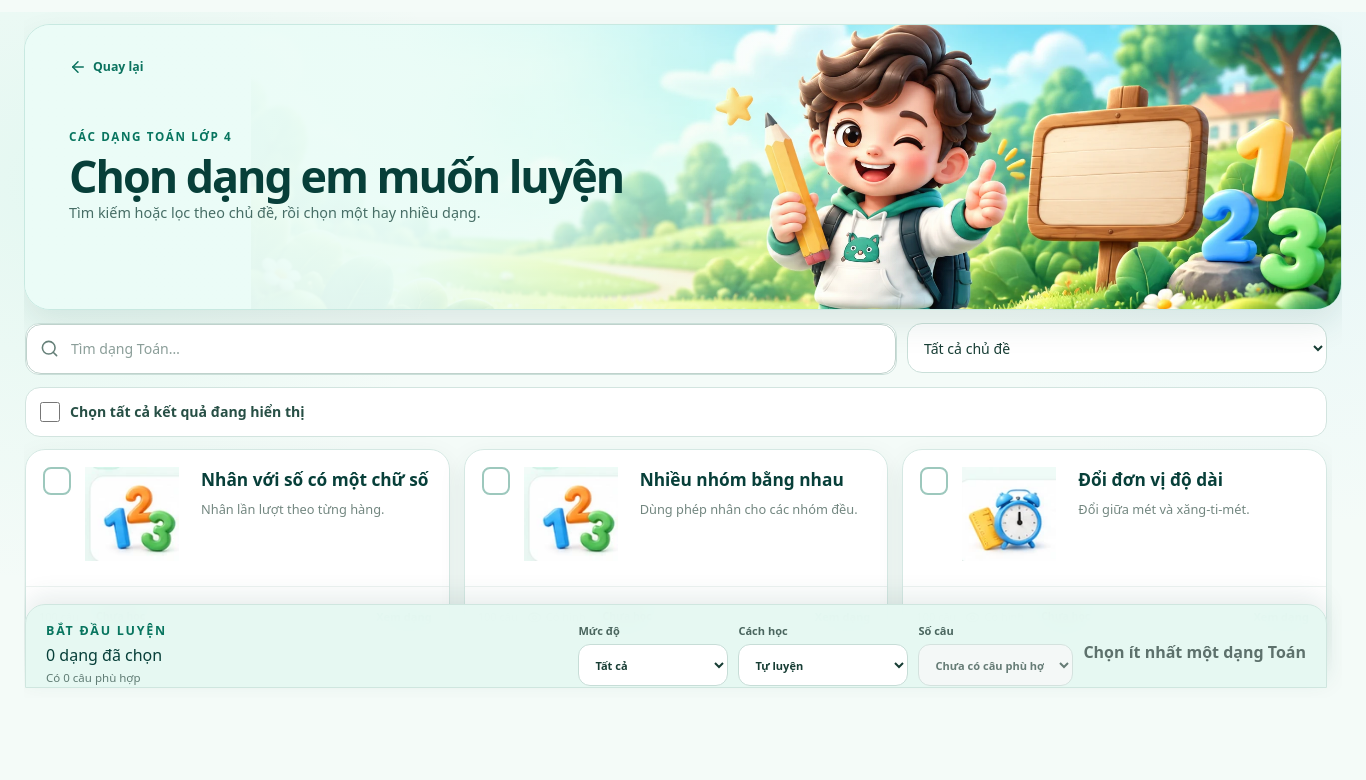
Test: LearnCatalogPage › selects and deselects every visible leaf, with a partial state
Click the checkbox labelled "Chọn tất cả kết quả đang hiển thị" at x=50, y=412, box [40,402,60,422]
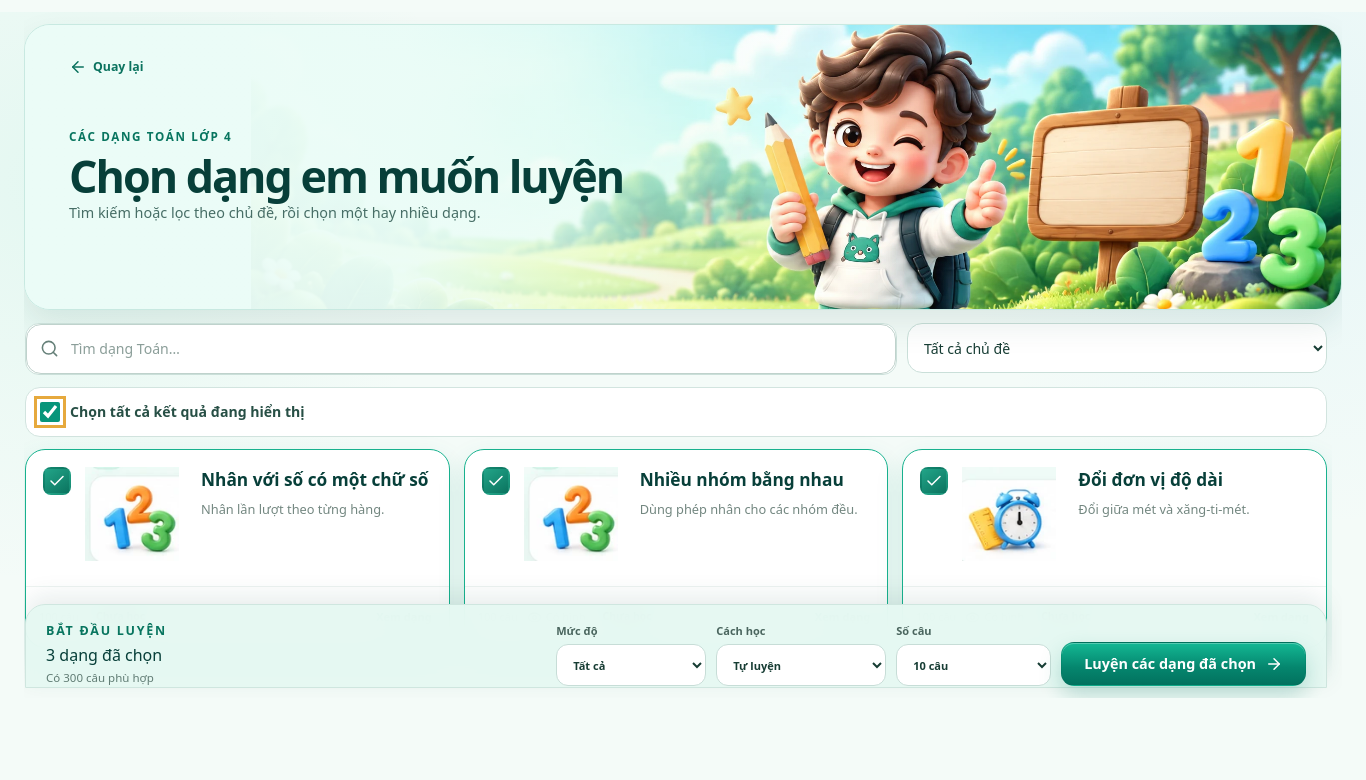
Expected: the heading "3 dạng đã chọn" is shown, [46,644,162,666]
Click the button "Nhân với số có một chữ số Nhân lần lượt theo từng hàng." at x=237, y=519, box [27,451,448,587]
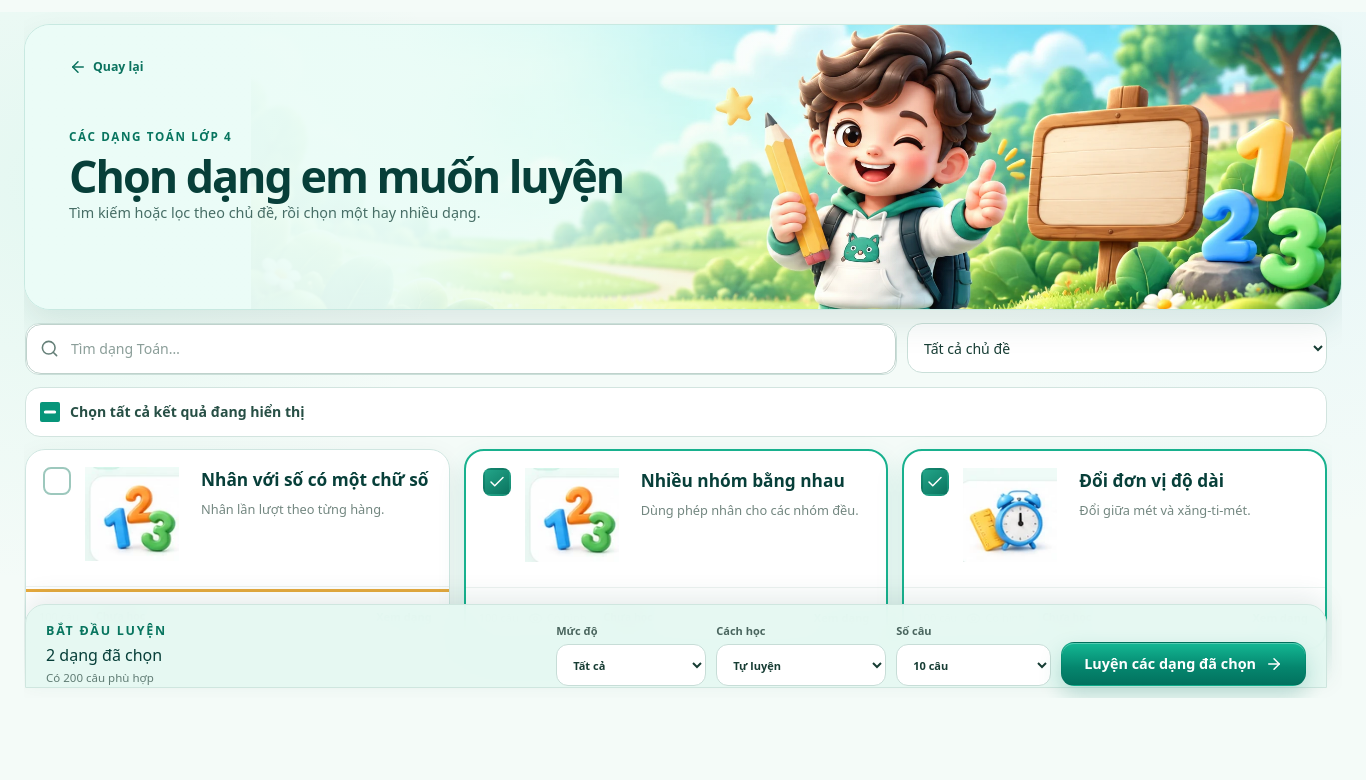
Expected: the heading "2 dạng đã chọn" is shown, [46,644,162,666]
Click the checkbox labelled "Chọn tất cả kết quả đang hiển thị" at x=50, y=412, box [40,402,60,422]
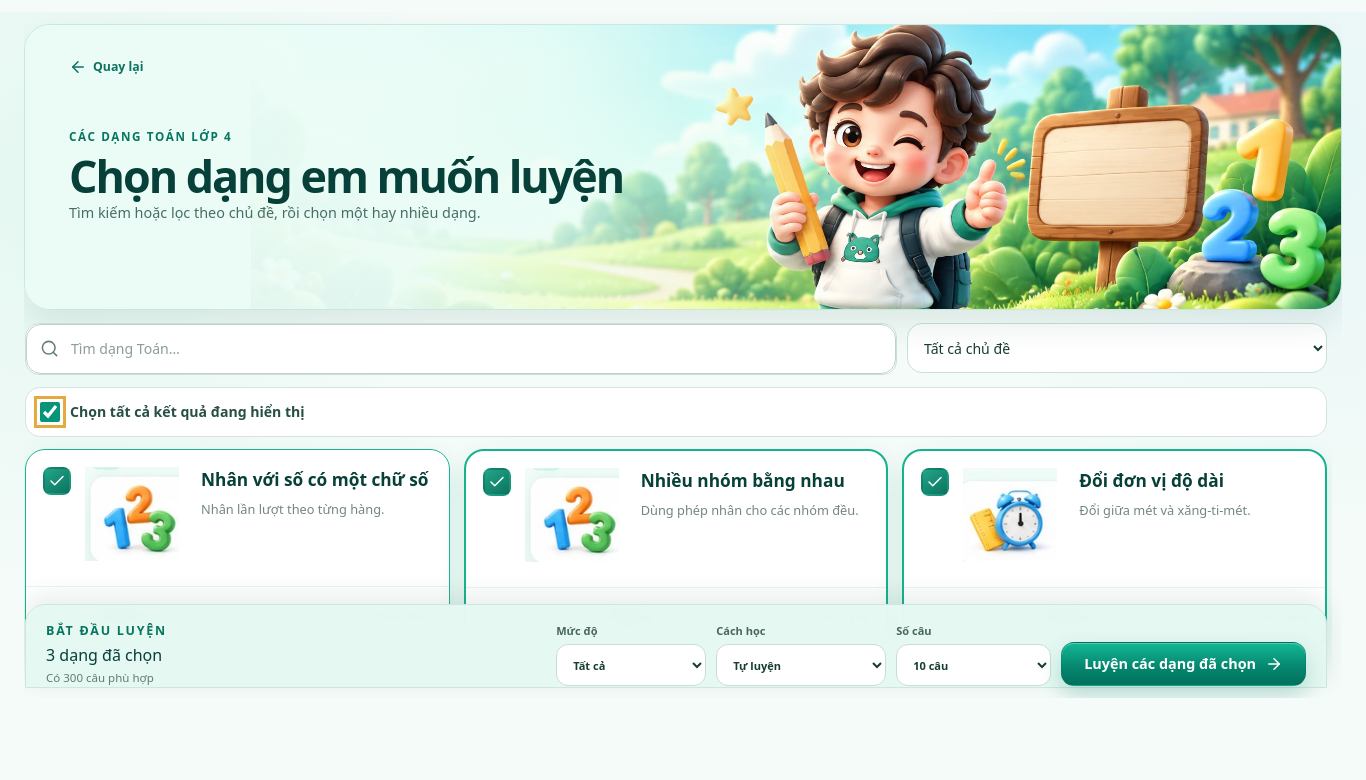
Expected: the heading "3 dạng đã chọn" is shown, [46,644,162,666]
Click the checkbox labelled "Chọn tất cả kết quả đang hiển thị" at x=50, y=412, box [40,402,60,422]
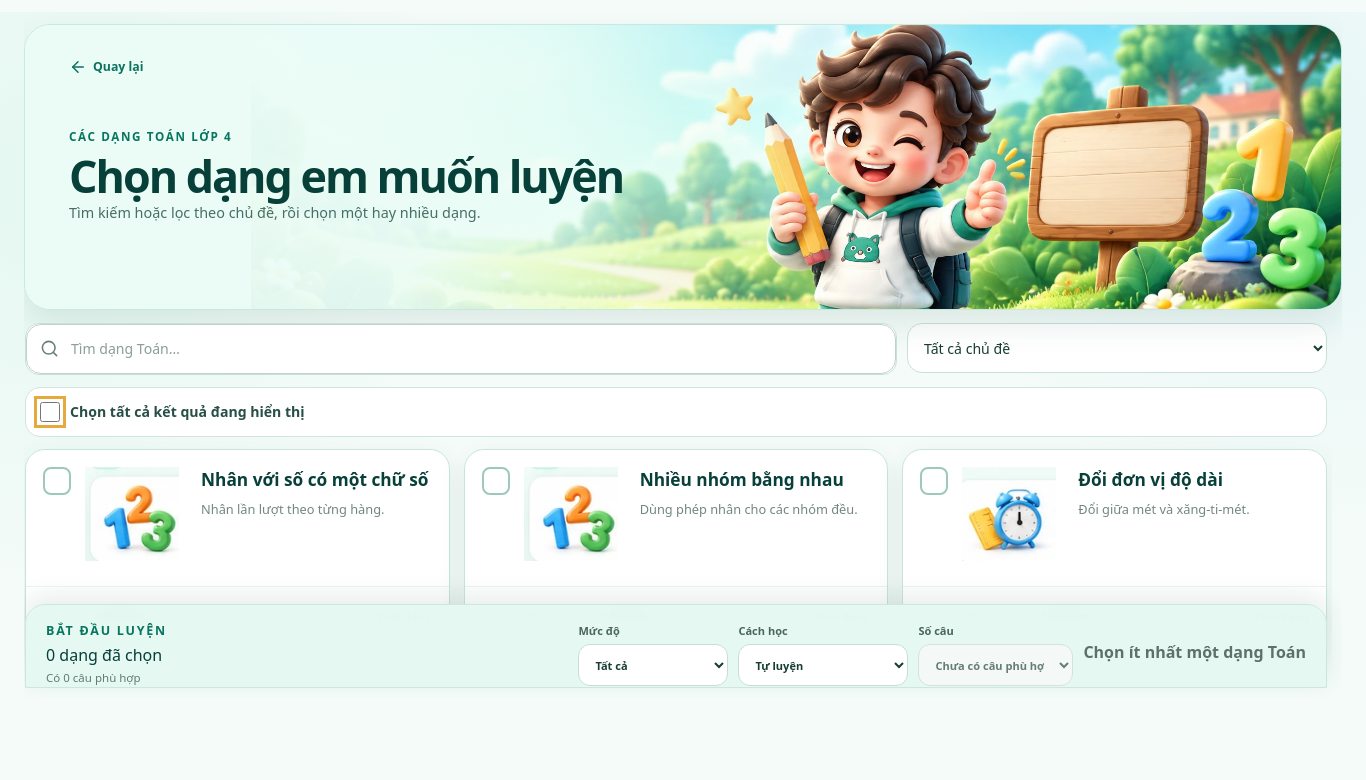
Expected: the heading "0 dạng đã chọn" is shown, [46,644,162,666]
